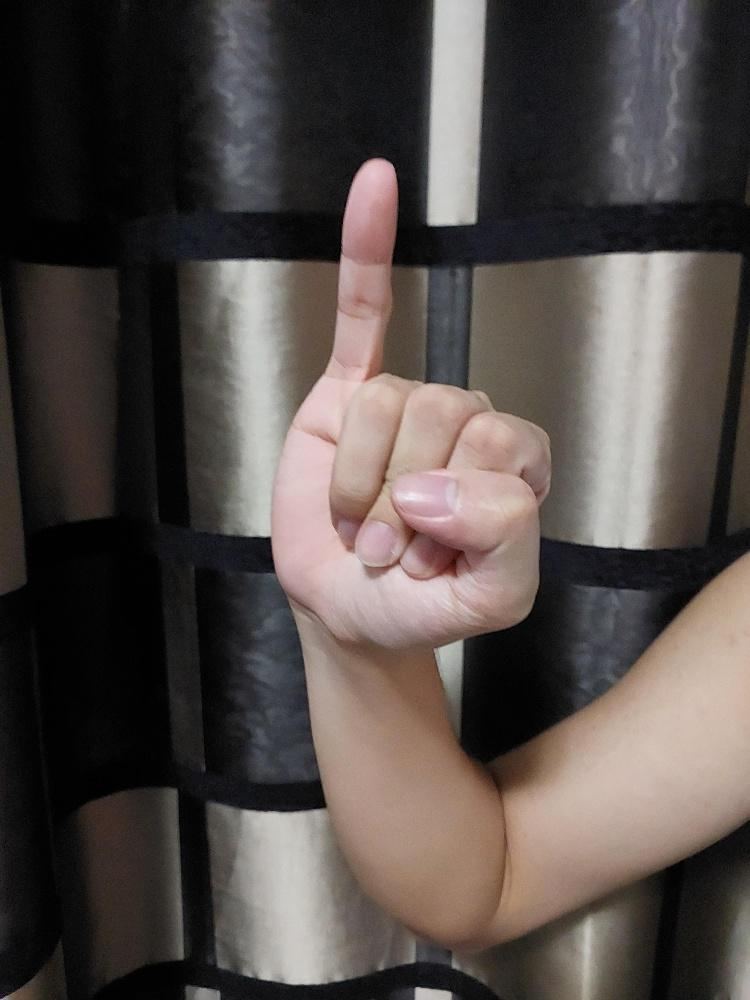i: (266, 155, 553, 652)
